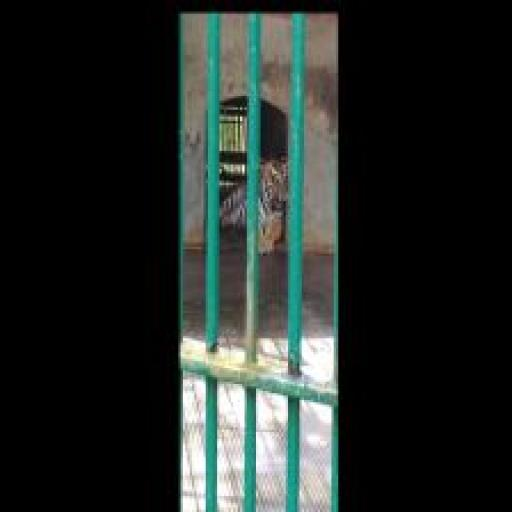Tiger: (222, 151, 292, 257)
